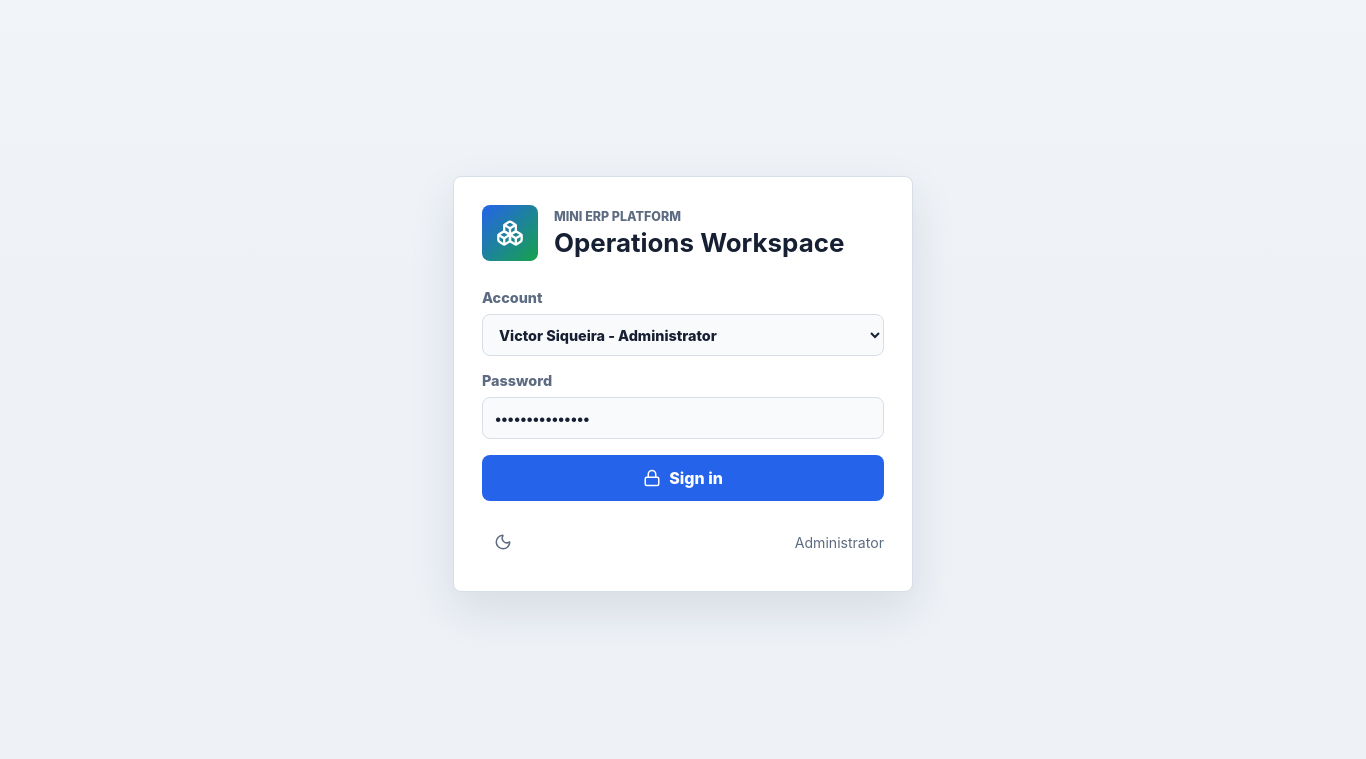
Test: App › limits order creation for analyst role
This screenshot has width=1366, height=759.
Click the button "Sign in" at x=683, y=478, box [482, 455, 884, 501]
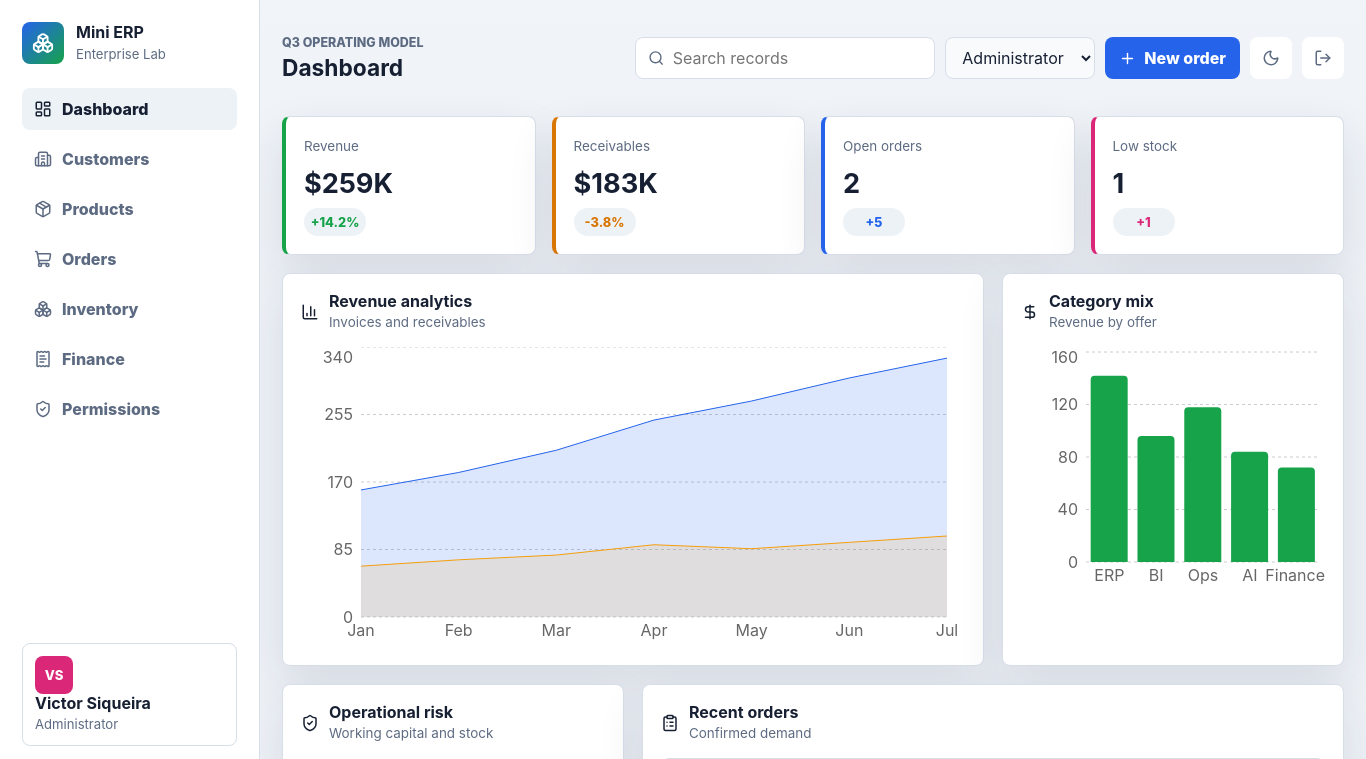
Select "Analyst" in the dropdown named "active role" at x=1020, y=58, box [945, 37, 1095, 79]
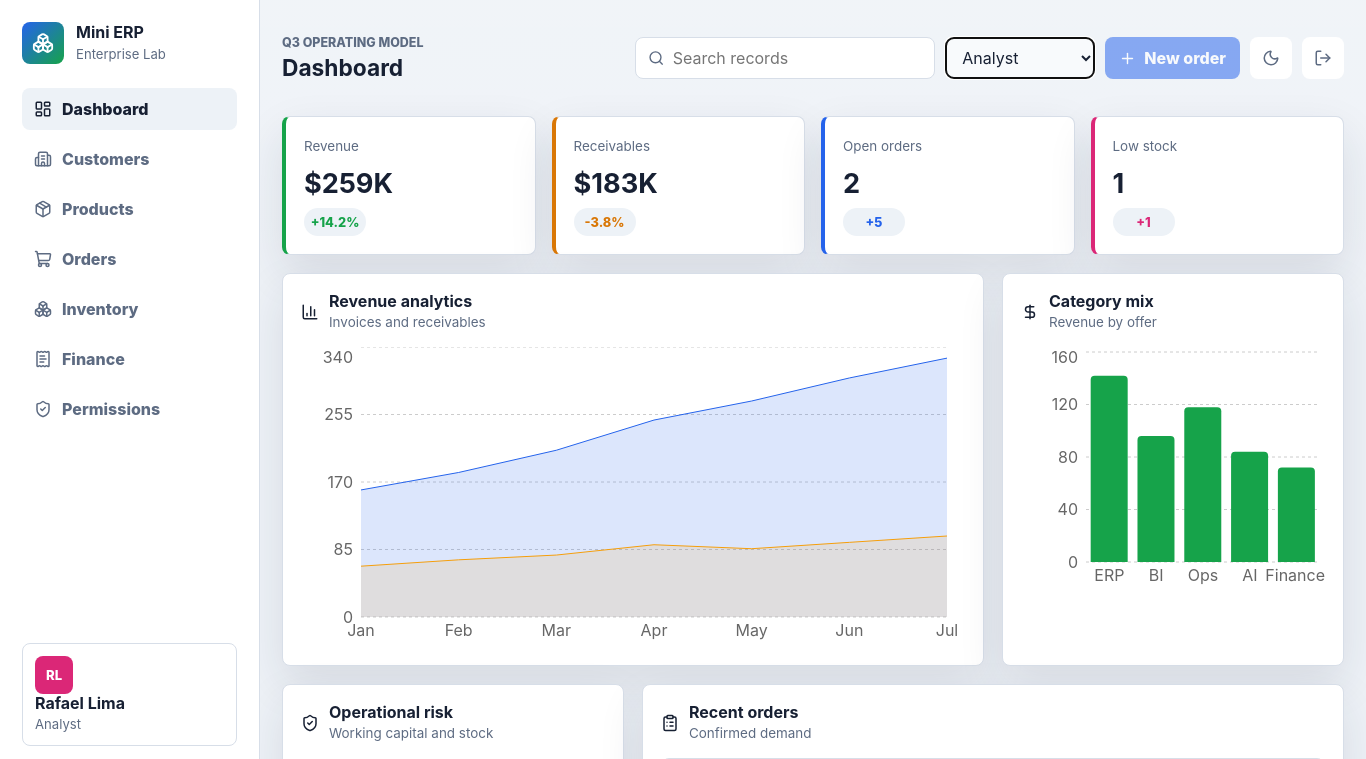
Now the button "New order" is disabled, box [1105, 37, 1240, 79]
Click the button "Permissions" at x=130, y=409, box [22, 388, 237, 430]
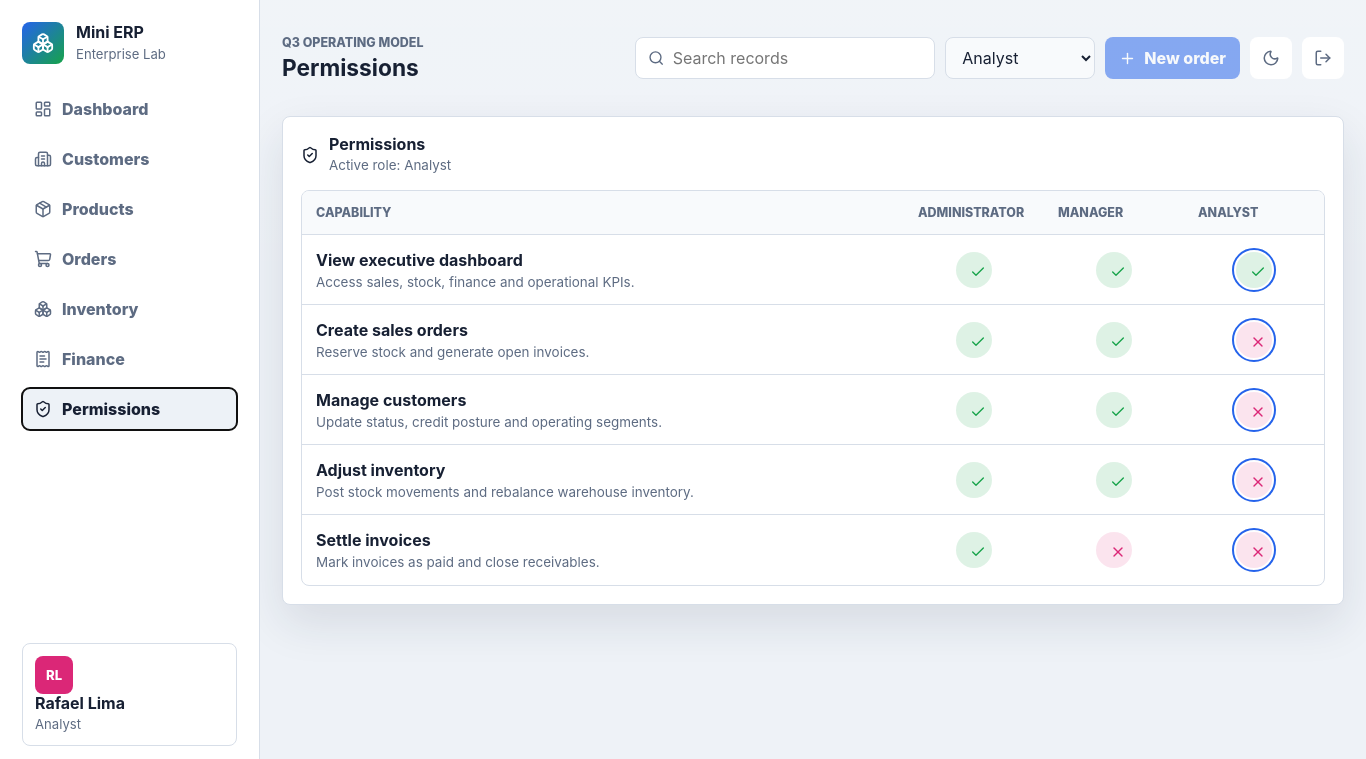
Now the text "Active role: Analyst" is shown, box [329, 157, 451, 173]
